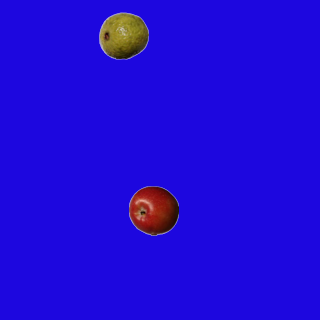Apple Braeburn: (128, 185, 178, 235)
Guava: (98, 10, 148, 60)
